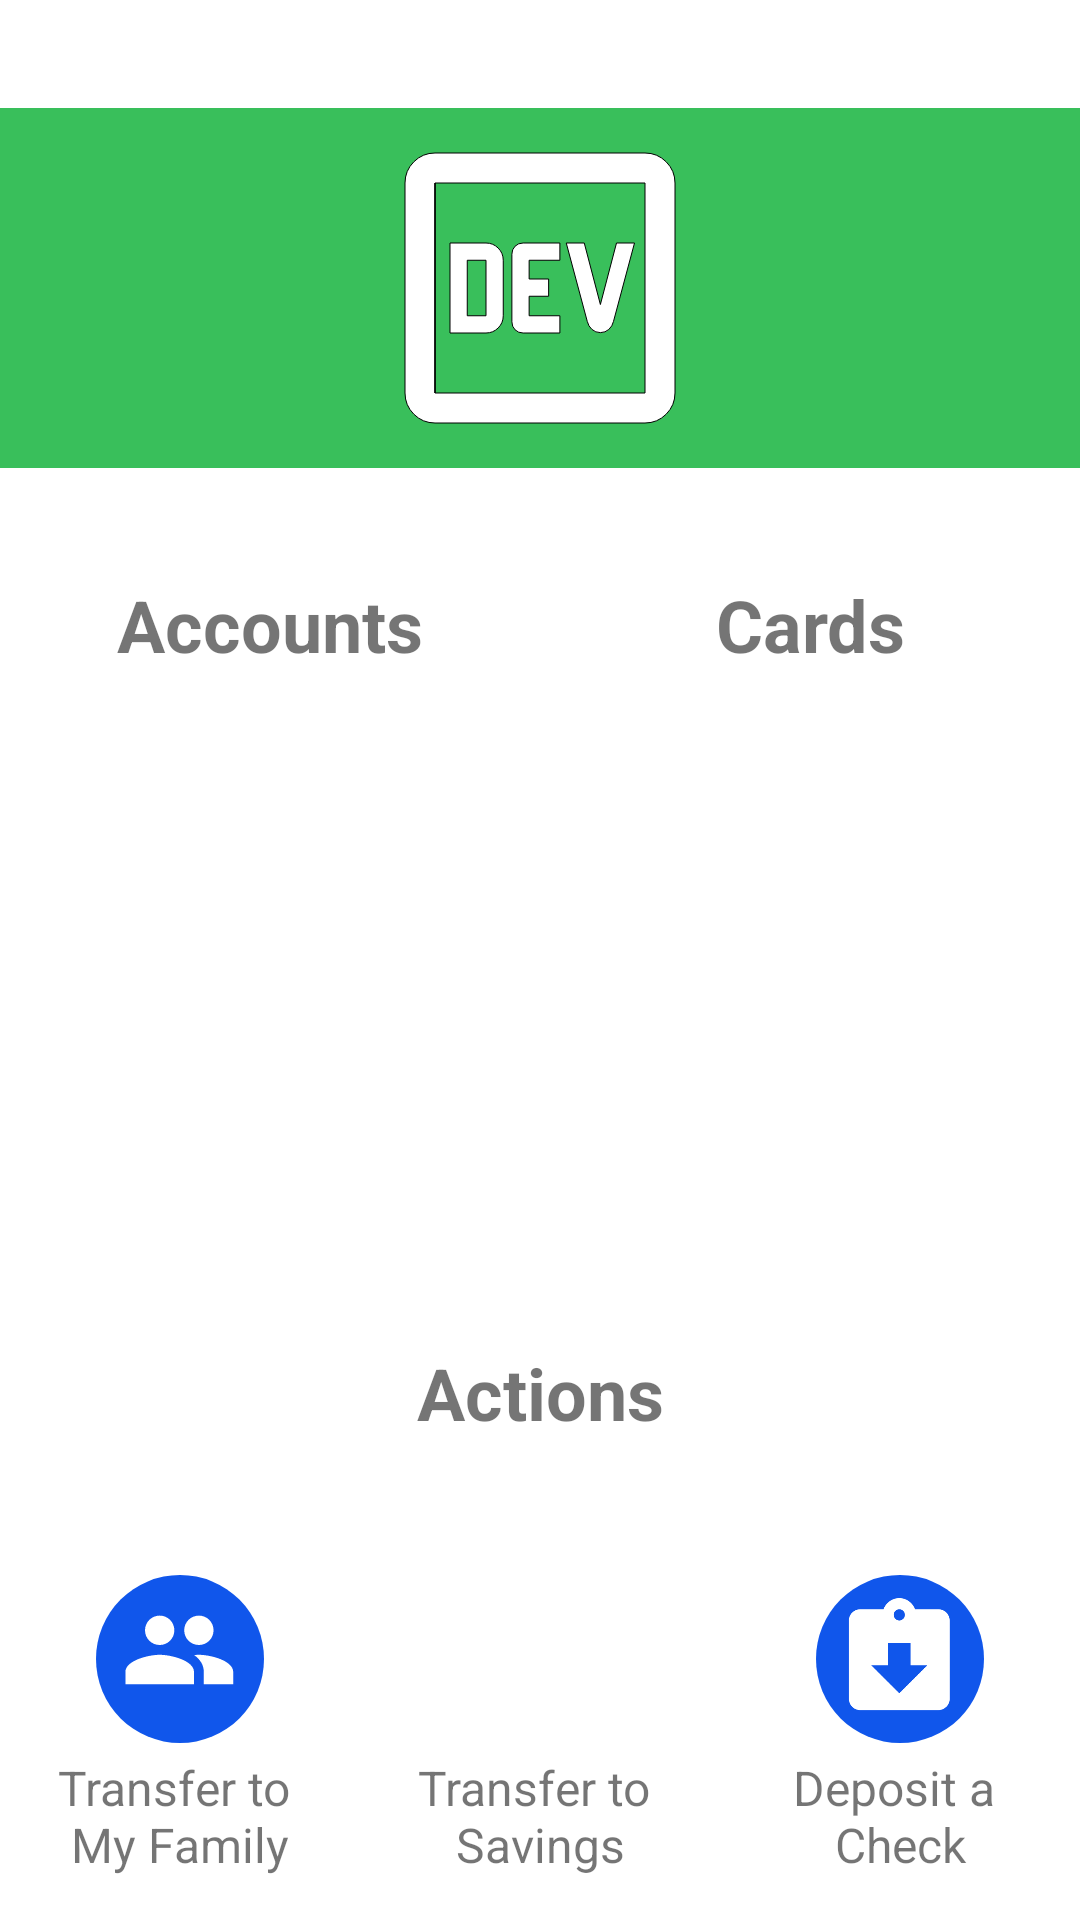

Named icons in this screenshot (1080 x 1920) and their bounding boxes, box(x1, y1, x2, y2):
family round: box(96, 1575, 264, 1743)
